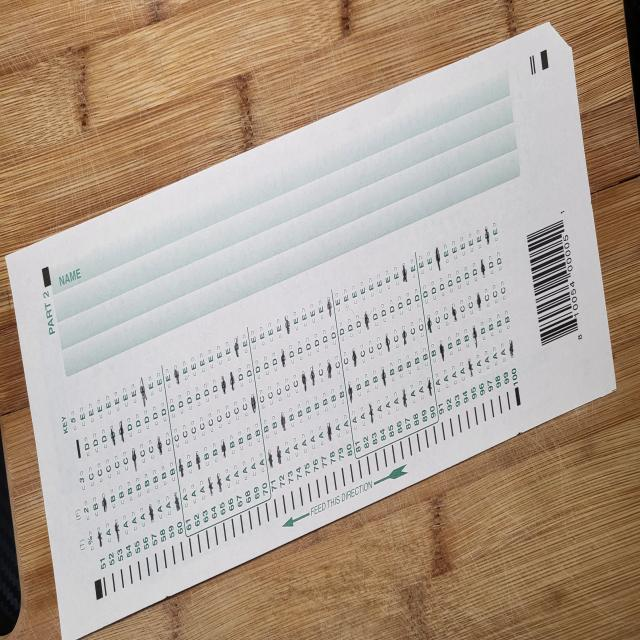scantron_back: (5, 21, 616, 639)
